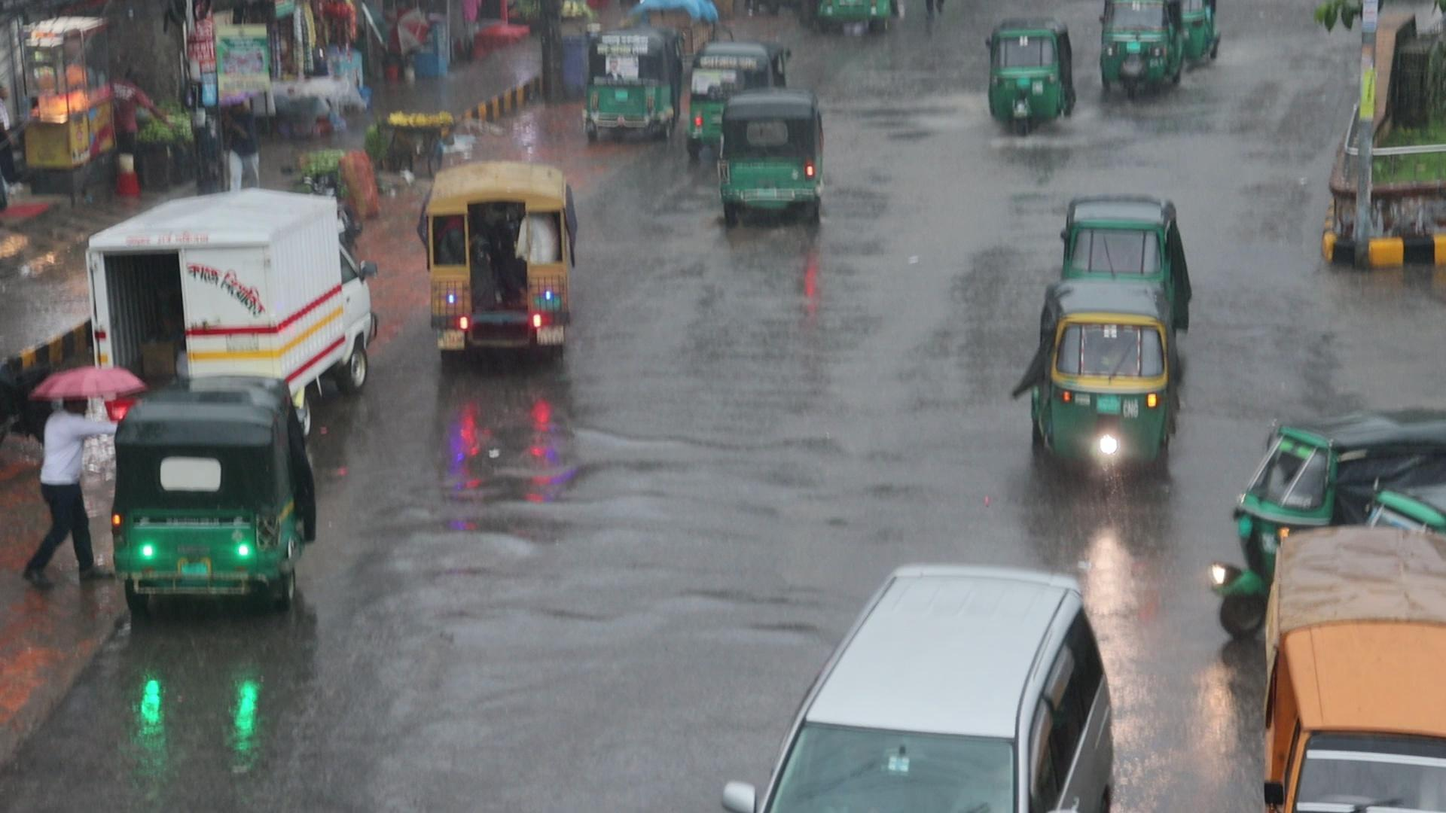Car: (734, 553, 1128, 813)
Truck: (1256, 473, 1446, 813), (410, 153, 587, 379)
